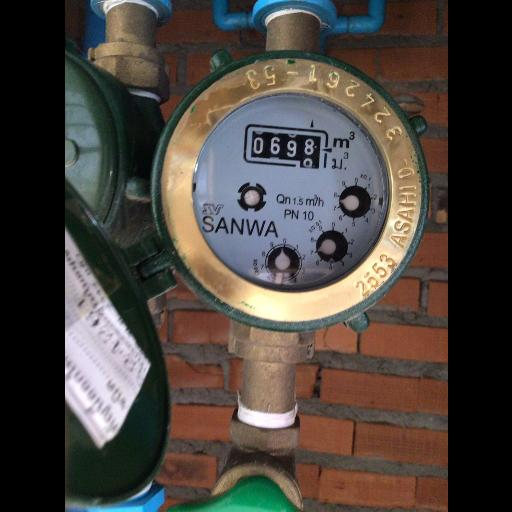0: (249, 130, 268, 158)
6: (266, 132, 285, 161)
8: (300, 135, 321, 169)
9: (282, 133, 302, 161)
border_water_meter_number: (241, 124, 329, 170)
